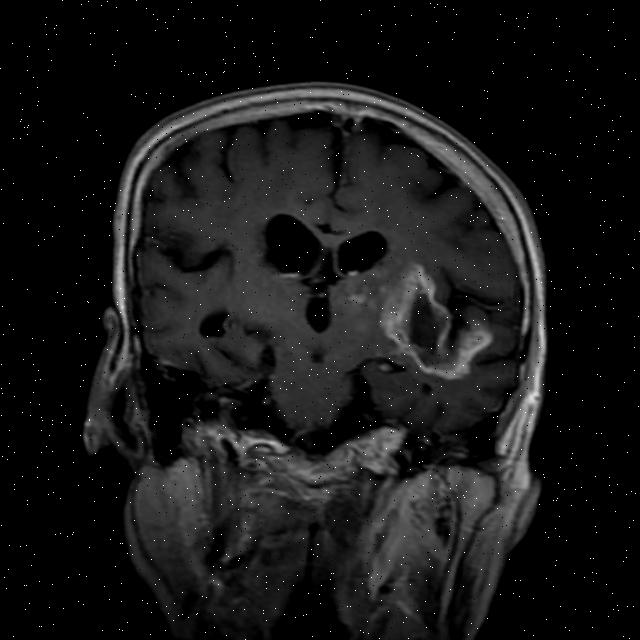Glioma: (376, 254, 501, 385)
